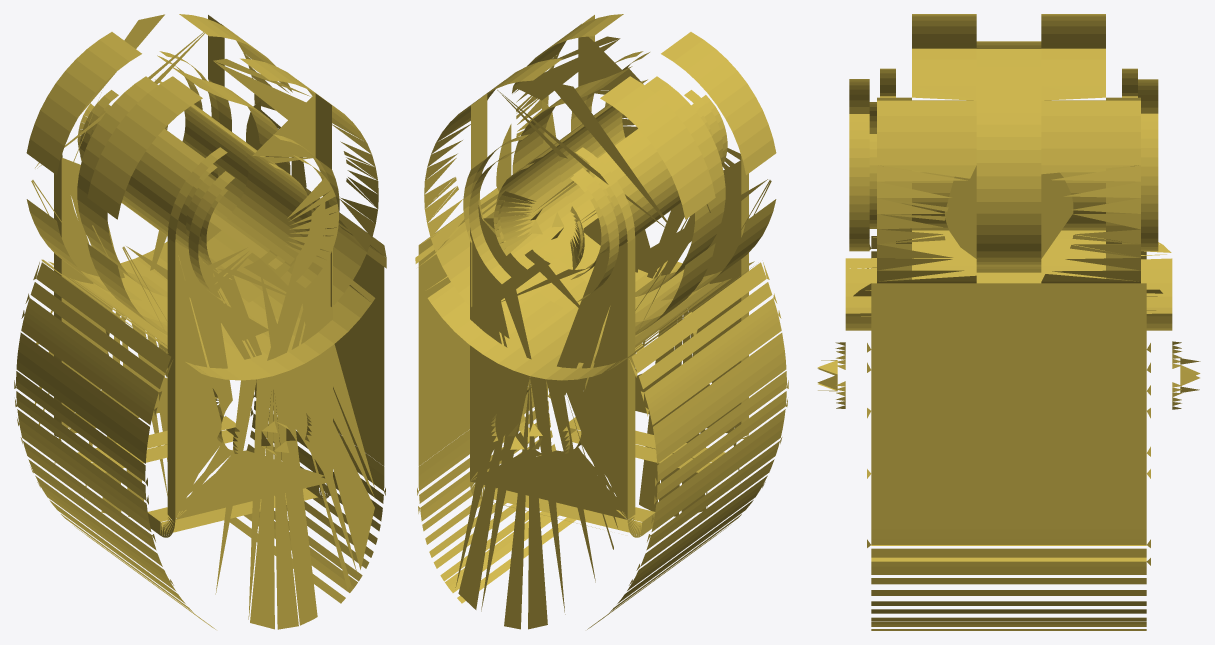
The model's file is H2R3_finger_knuckle3.dae.
3 renders of one model, left to right at view 1: azimuth 30°, elevation 25°; view 2: azimuth 150°, elevation 25°; view 3: azimuth 270°, elevation 25°, orthographic. The views are drawn at different scales.
Parts seen in each view (by area): view 1: H2R3_finger_knuckle3; view 2: H2R3_finger_knuckle3; view 3: H2R3_finger_knuckle3.
Part boxes in pixels (box(x1,y1,x2,y2)): H2R3_finger_knuckle3: box(14, 14, 386, 629); H2R3_finger_knuckle3: box(415, 14, 788, 629); H2R3_finger_knuckle3: box(817, 14, 1200, 630).
Bounding box in the file's own units: 0.0149 × 0.0188 × 0.0304.
